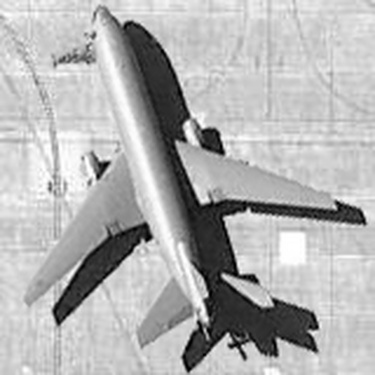airplane: (2, 1, 343, 358)
